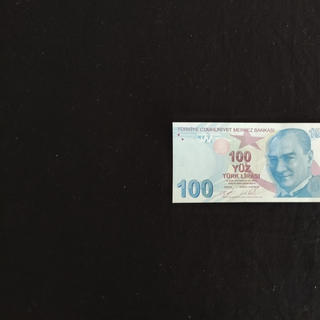100TLFront: (171, 121, 320, 203)
